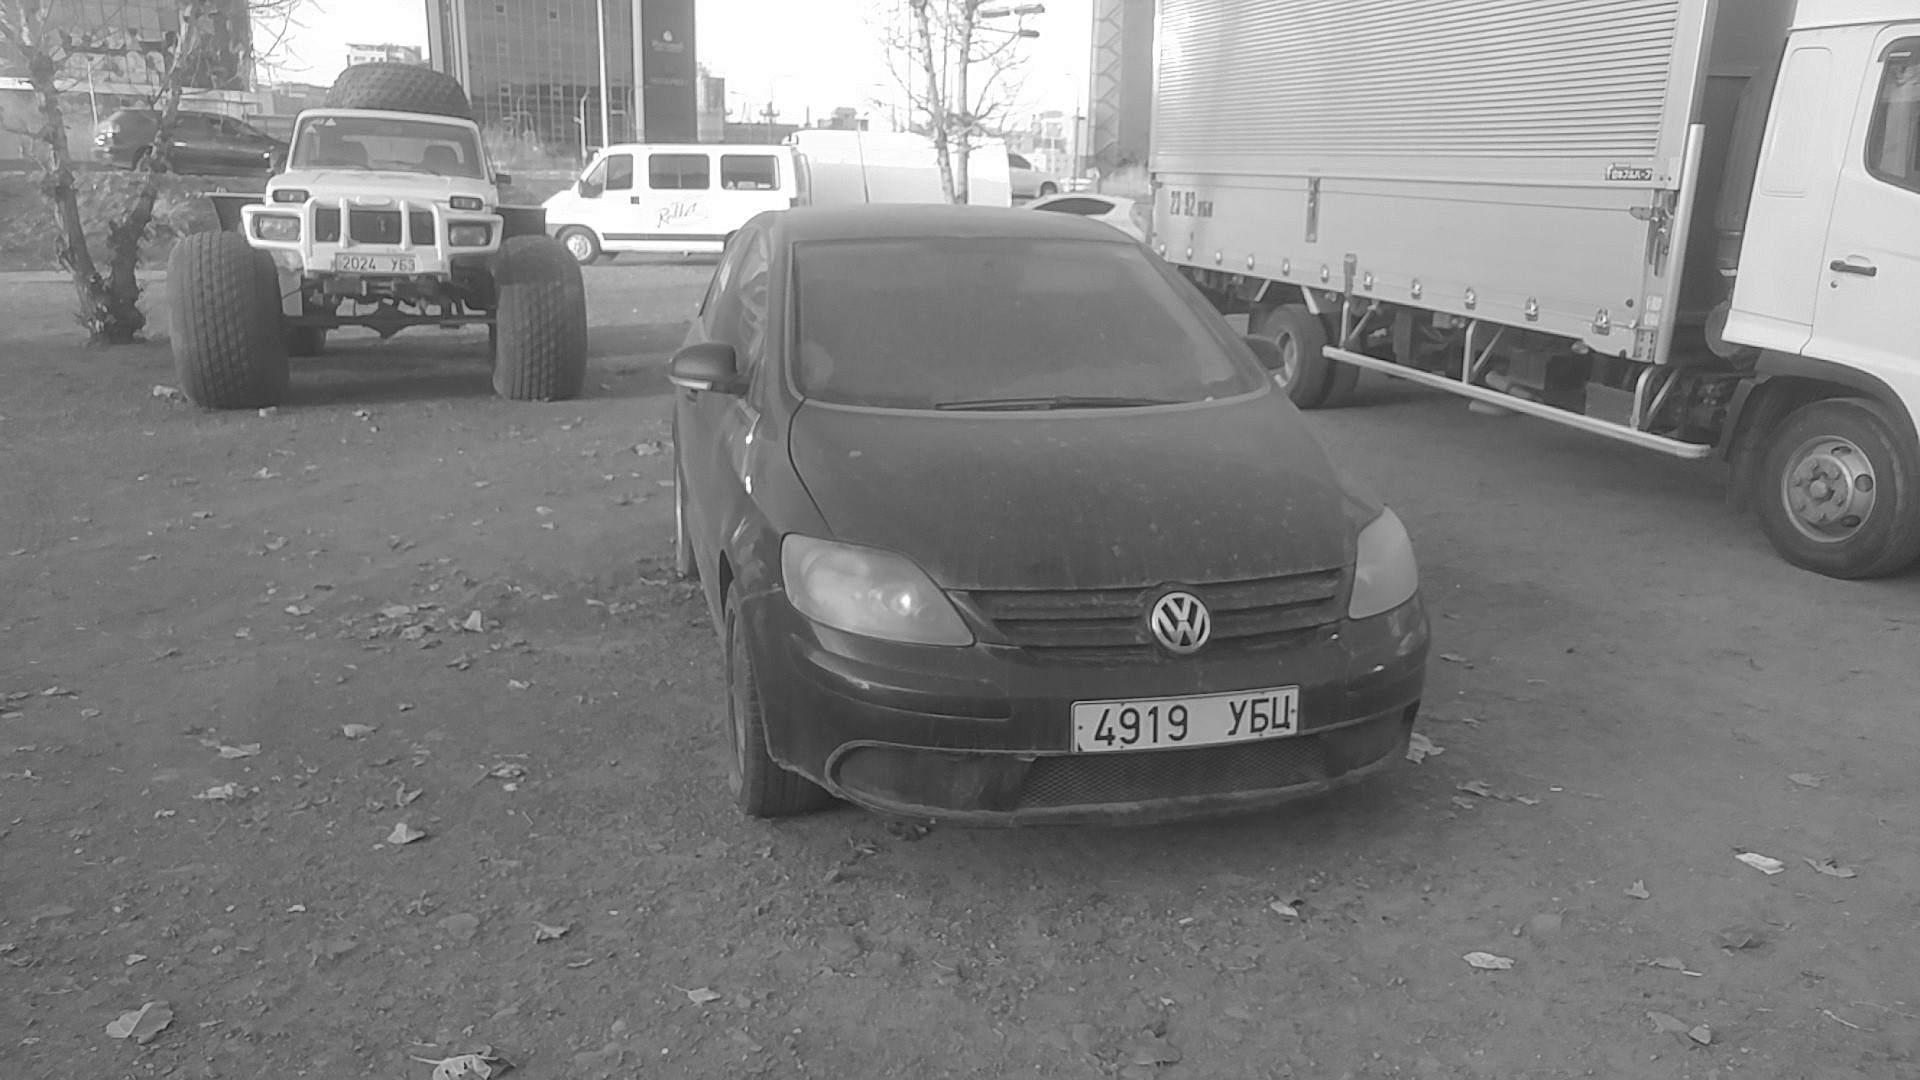1: (1147, 706, 1160, 743)
4: (1094, 707, 1117, 745)
9: (1119, 707, 1141, 745), (1167, 705, 1189, 741)
b: (1250, 698, 1270, 733)
plate: (1066, 681, 1302, 756)
ts: (1271, 695, 1293, 731)
u: (1226, 699, 1247, 737)
